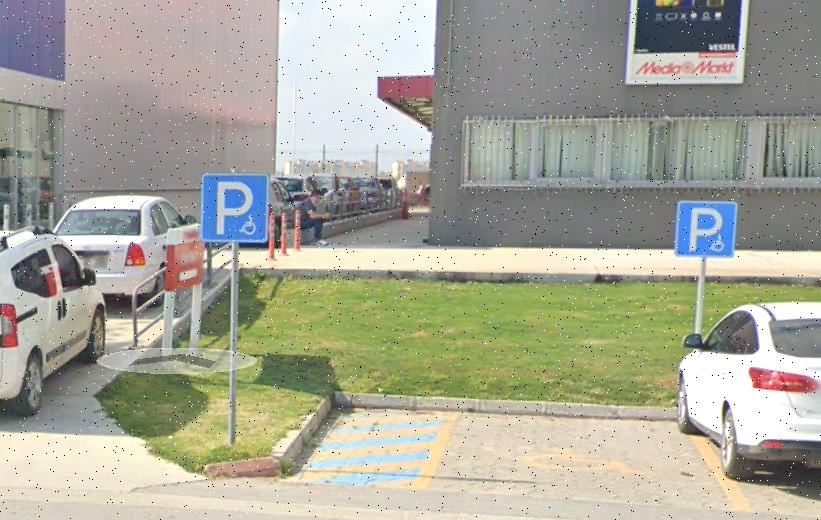disabledpark: (205, 176, 262, 239), (680, 202, 732, 254)
